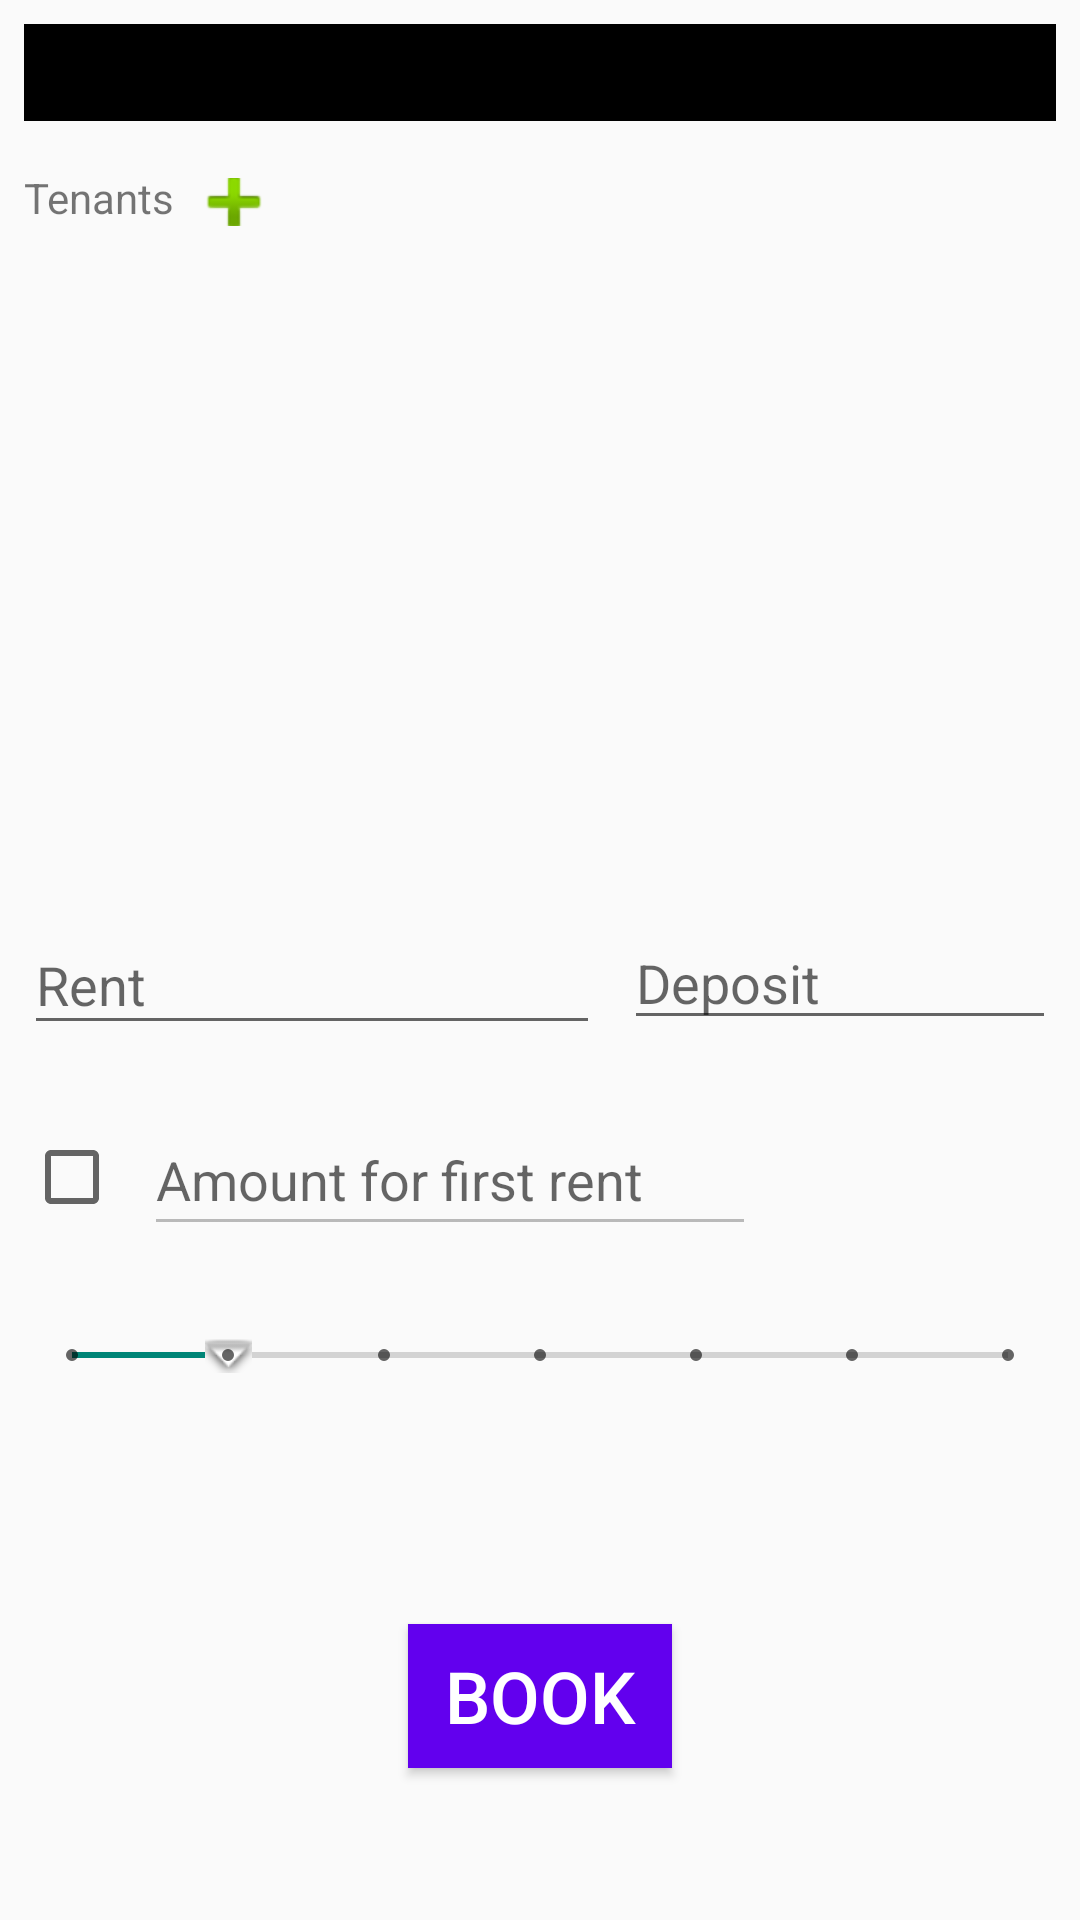

Named icons in this screenshot (1080x1920) and their centers, (x=x, y=y):
add: (x=234, y=202)
